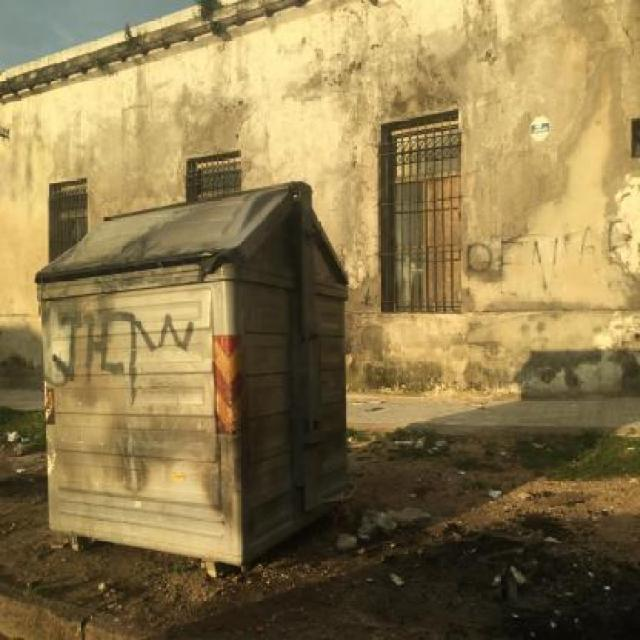garbage: (322, 502, 500, 590), (363, 417, 466, 472), (3, 405, 33, 521)
